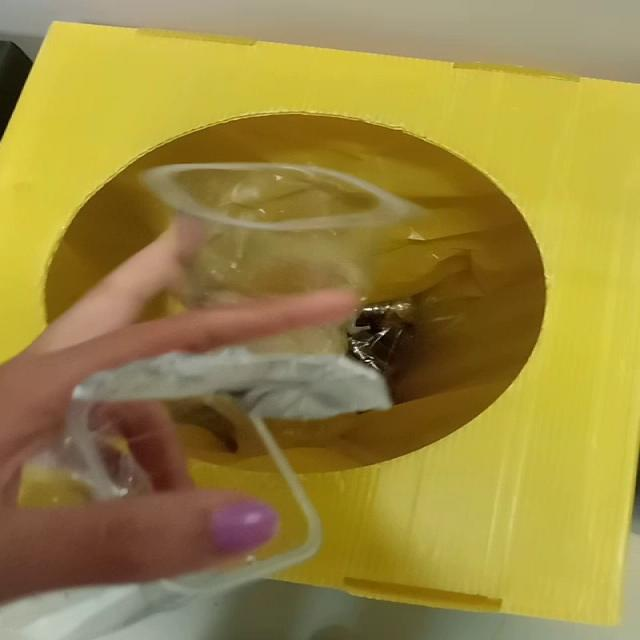plastic: (143, 163, 424, 306), (252, 327, 347, 354)
